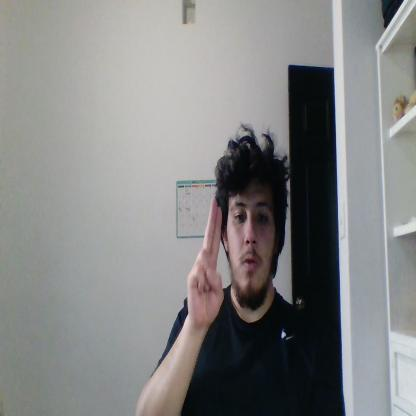U: (188, 198, 224, 328)
